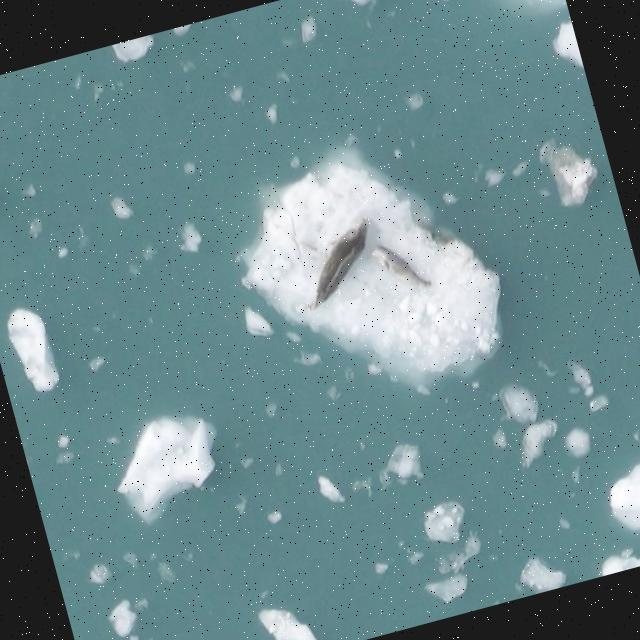seal: (291, 208, 377, 315), (364, 237, 435, 300)
